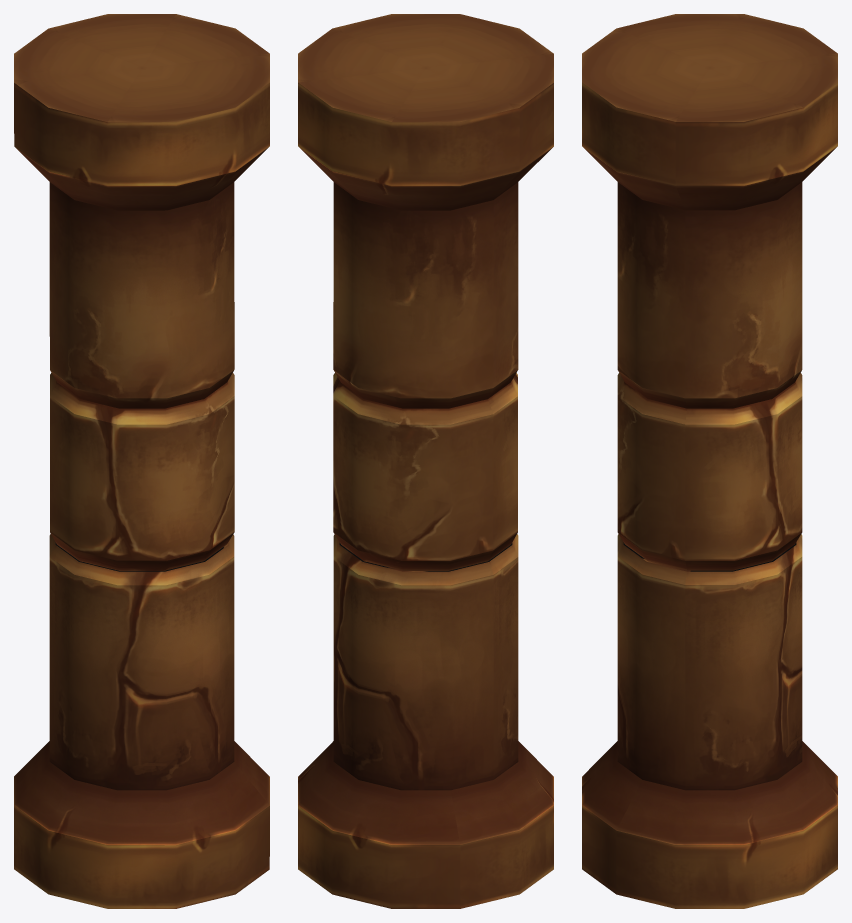
Rendered from 1013_gidoong_jogak_04.FBX.
3 views of the same model, side by side, from view 1: azimuth 30°, elevation 25°; view 2: azimuth 150°, elevation 25°; view 3: azimuth 270°, elevation 25° (orthographic).
Visible parts, largest first — view 1: Object002; view 2: Object002; view 3: Object002.
Part boxes in pixels (x1,y1,x2,y2): Object002: [14, 14, 269, 908]; Object002: [298, 14, 553, 908]; Object002: [582, 14, 837, 908].
Bounding box in the file's own units: 57.46 × 195 × 57.46.
